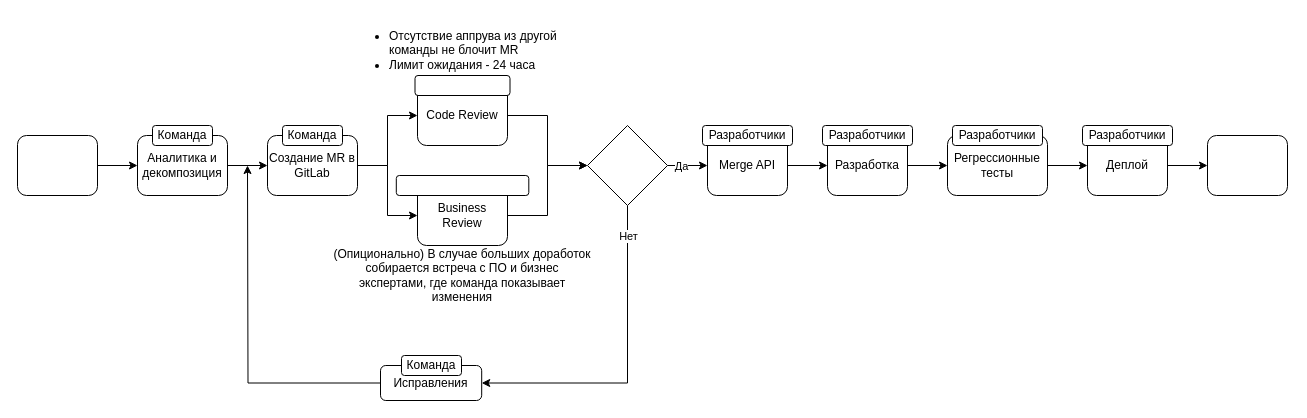
Some shapes in this 1307 by 418 pixel diagram are drawn without their labels. Each missing label, with the centre of its shape:
"API Community" goes at pixel 462 85.
"User Story" goes at pixel 57 165.
"ПО и бизнес эксперты" goes at pixel 462 185.
"Реальное использование" goes at pixel 1247 165.
"Ревью пройдено?" goes at pixel 627 165.
